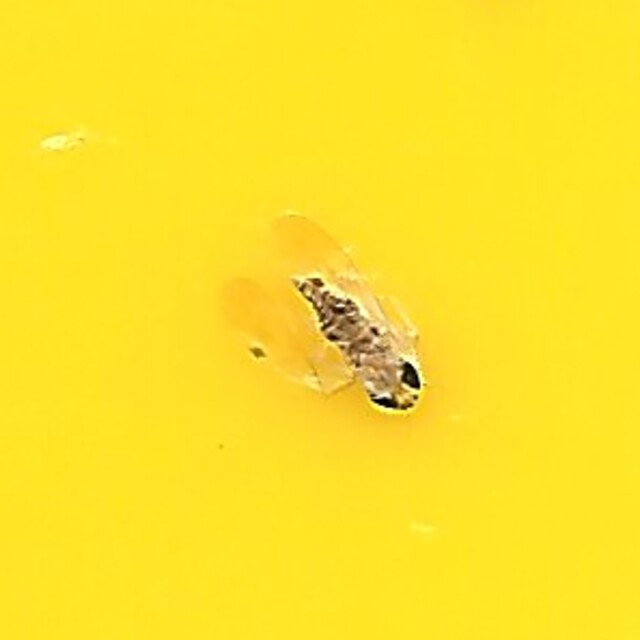Hemiptera: (215, 219, 425, 421)
